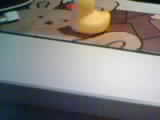duck: (52, 5, 116, 33)
